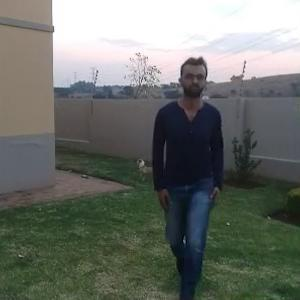follow: (149, 60, 219, 299)
